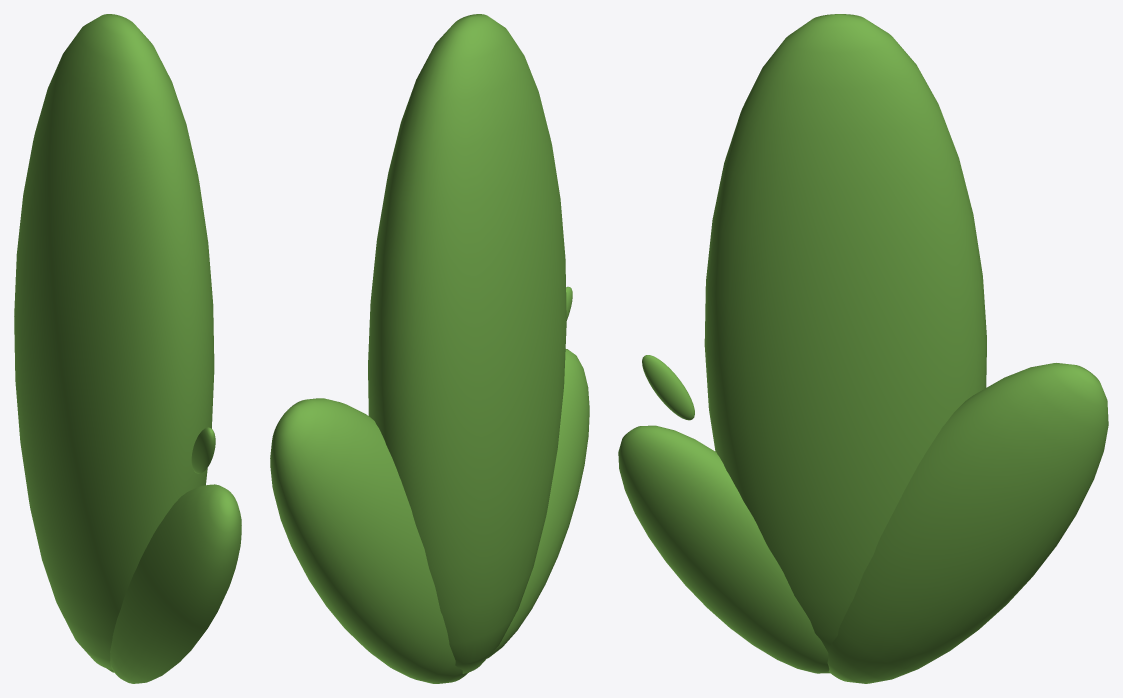
The model's file is Plant_1.fbx.
3 views of the same model, side by side, from view 1: azimuth 30°, elevation 25°; view 2: azimuth 150°, elevation 25°; view 3: azimuth 270°, elevation 25° (orthographic).
Parts seen in each view (by area): view 1: PLant_1; view 2: PLant_1; view 3: PLant_1.
Part boxes in pixels (box(x1,y1,x2,y2)): PLant_1: box(14, 14, 241, 683); PLant_1: box(270, 14, 589, 683); PLant_1: box(618, 14, 1108, 683).
Size of the model in its own units: 31.55 by 124 by 83.32.
